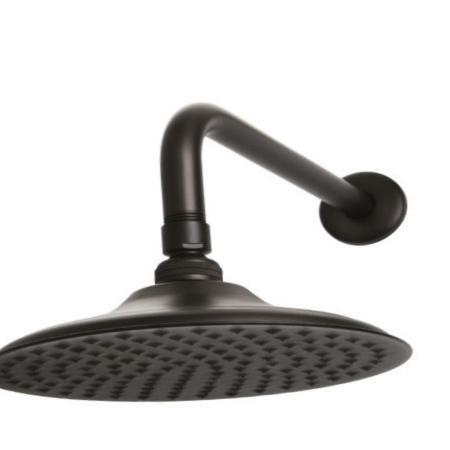Ducha: (0, 103, 422, 403)
